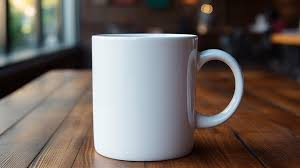mug: (83, 27, 253, 161)
